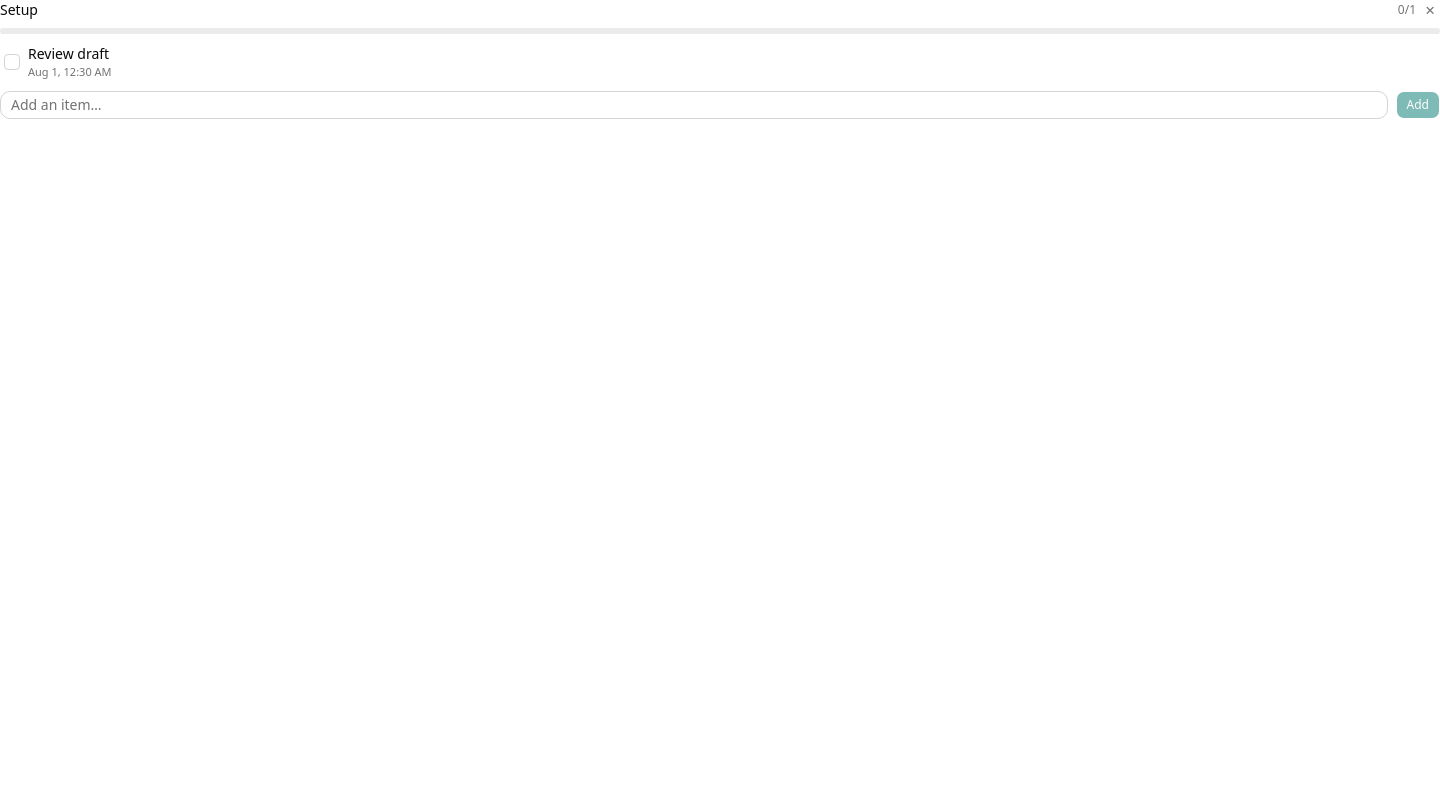
Test: TaskChecklist › shows a just-after-midnight subtask due date on its local calendar day
Click the text "Review draft": click(69, 54) [28,44,109,63]
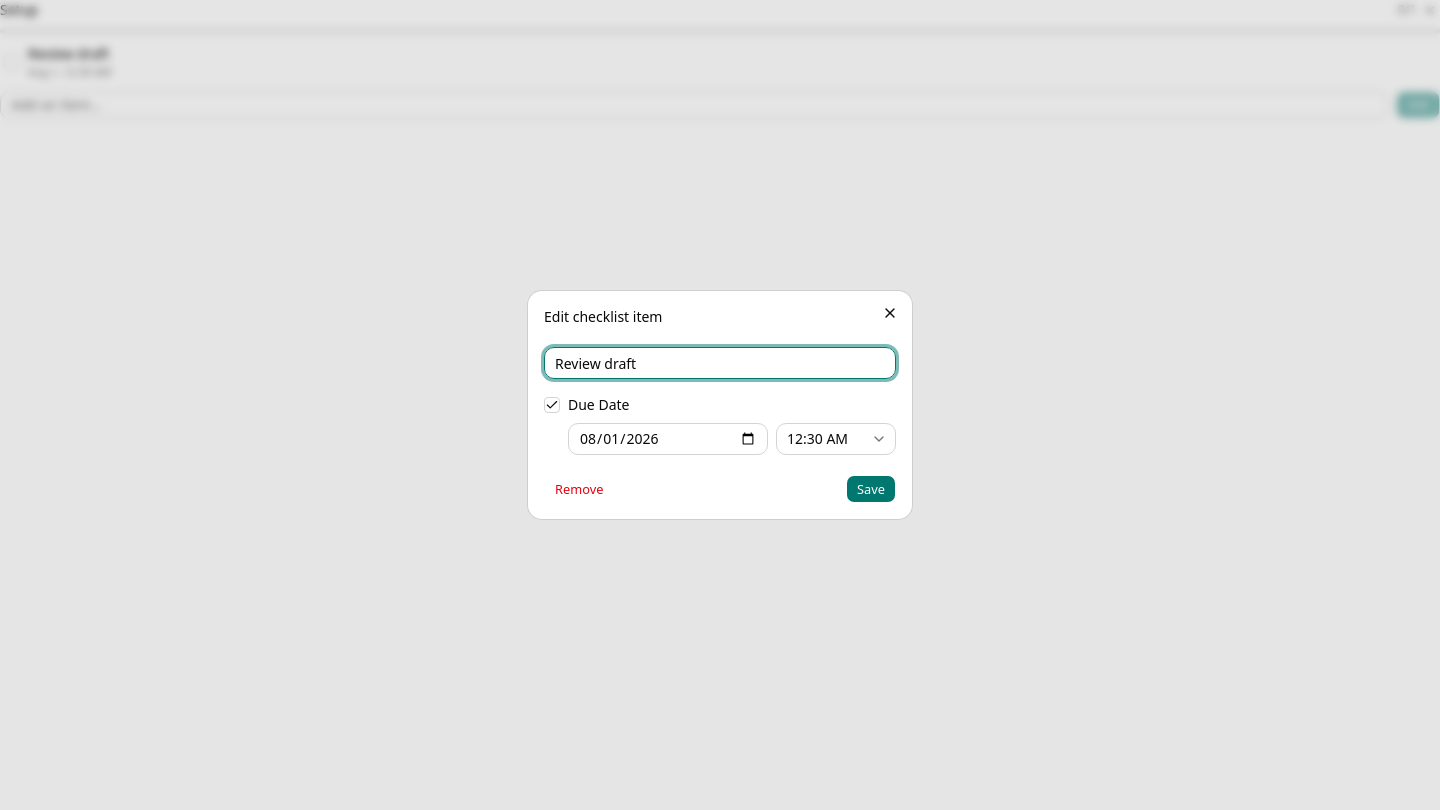
Expected: the date field holds "2026-08-01", [568,423,768,455]
